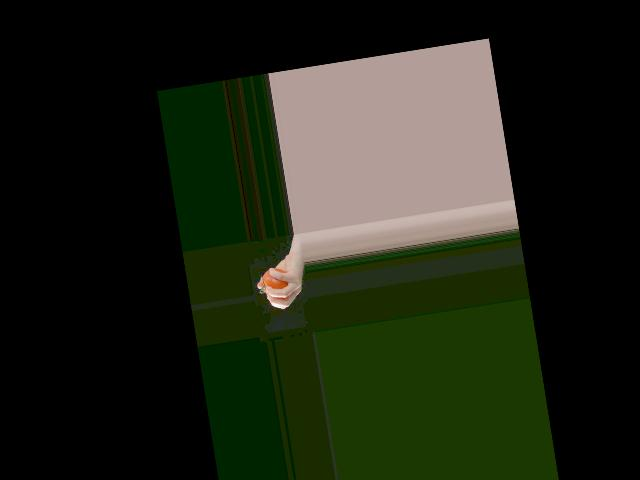tomato: (261, 266, 290, 294)
